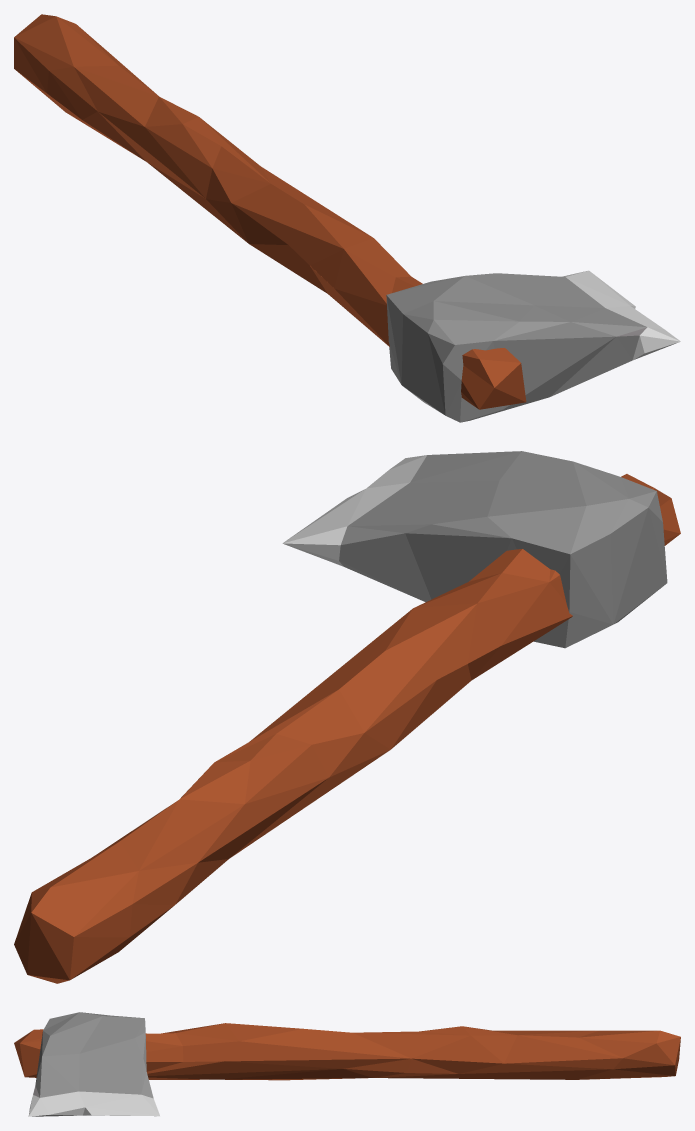
Rendered from Metal ax.fbx.
3 renders of one model, top to bottom at view 1: azimuth 30°, elevation 25°; view 2: azimuth 150°, elevation 25°; view 3: azimuth 270°, elevation 25°, orthographic. The views are drawn at different scales.
Parts seen in each view (by area): view 1: Metal ax; view 2: Metal ax; view 3: Metal ax.
Part boxes in pixels (<box>): Metal ax: <box>14,14,680,422</box>; Metal ax: <box>14,451,680,983</box>; Metal ax: <box>14,1012,680,1116</box>.
Bounding box in the file's own units: 0.1528 × 0.0603 × 0.5643.
